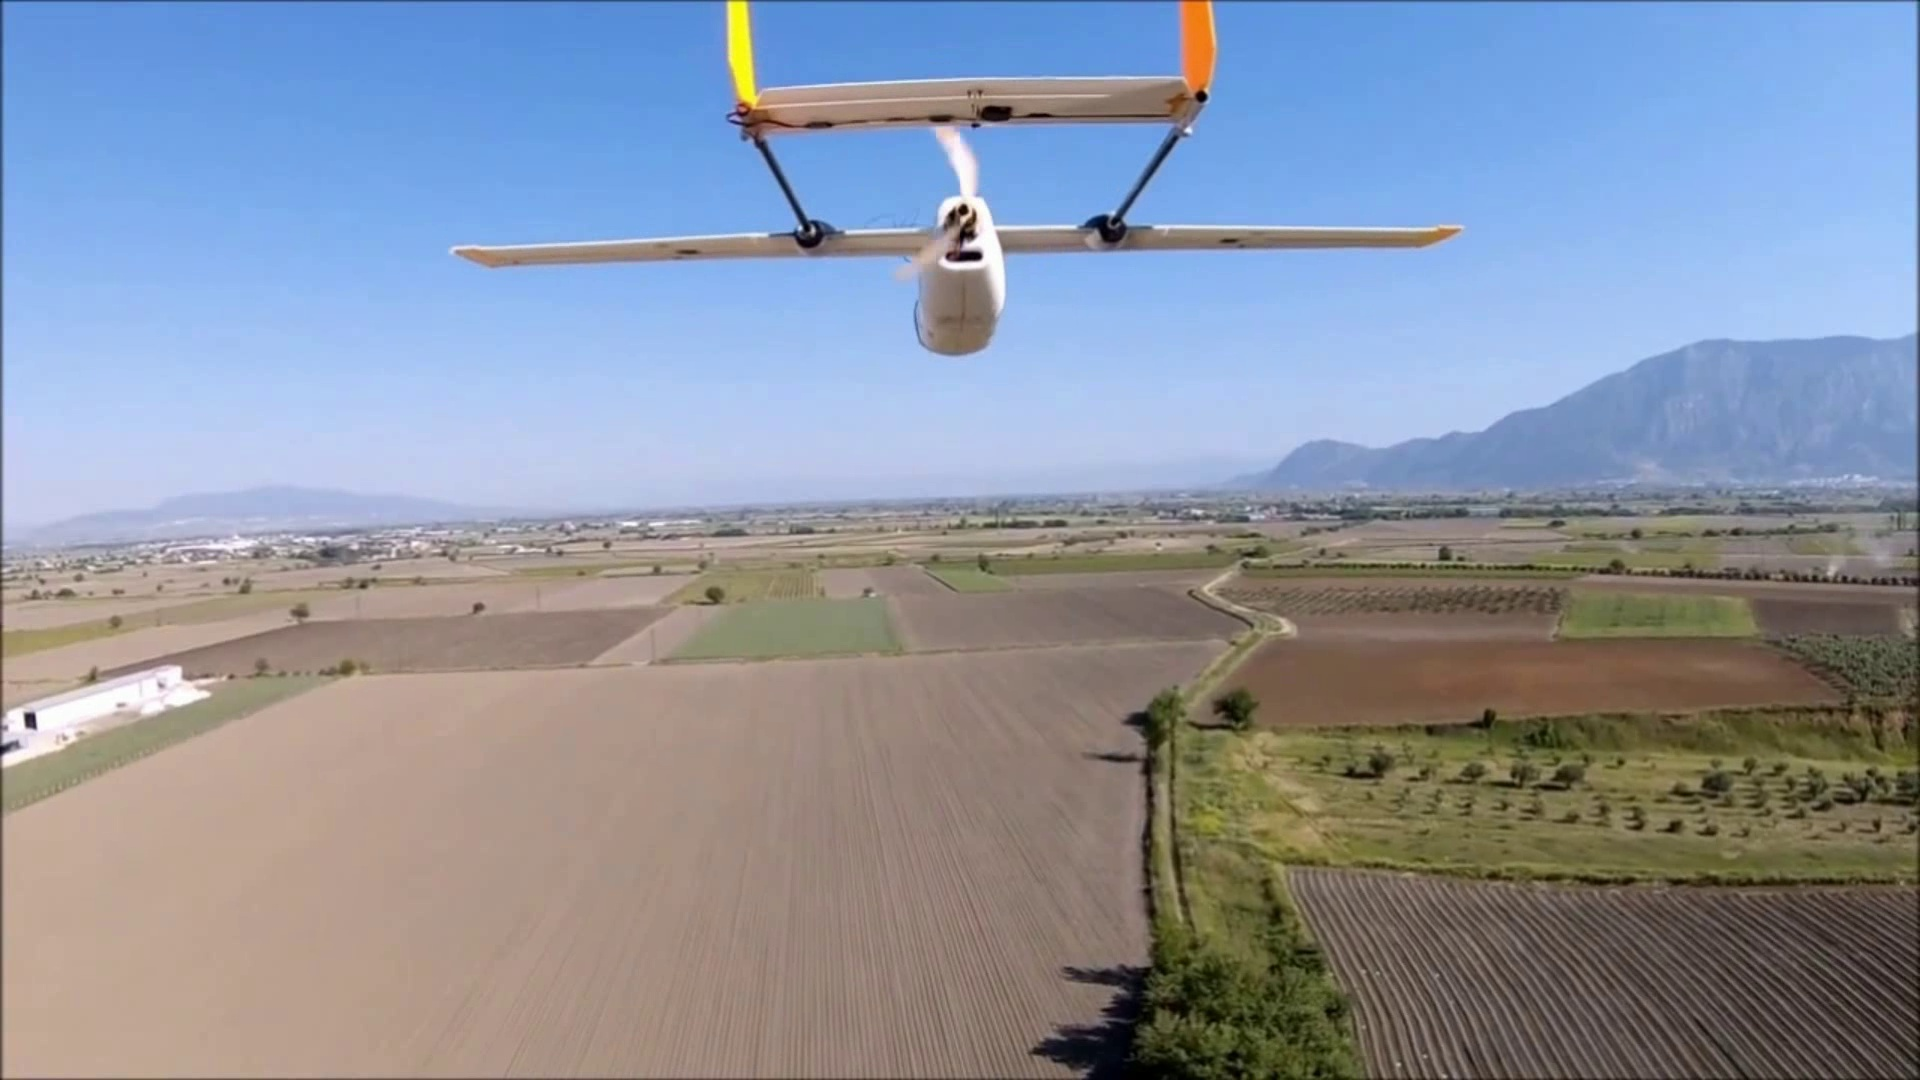airplane: (448, 7, 1457, 356)
